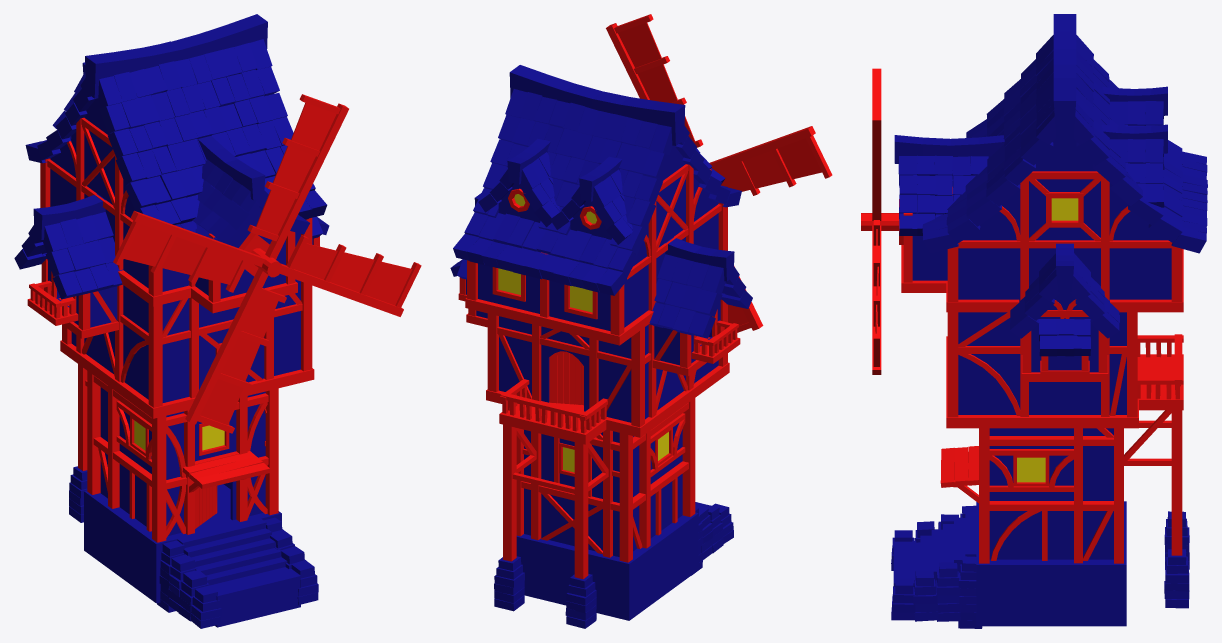
The picture shows the model from 3 angles, left to right: view 1: azimuth 30°, elevation 25°; view 2: azimuth 150°, elevation 25°; view 3: azimuth 270°, elevation 25°; orthographic projection. The views are drawn at different scales.
Visible parts, largest first — view 1: wuding10, yilou, 立方体.090, 对象048, 立方体.021, diban, 对象051, men.001, 平面.008; view 2: wuding10, yilou, 对象048, 立方体.021, 立方体.090, diban, 对象051, 平面.008, men; view 3: wuding10, 对象048, yilou, 立方体.021, diban, 立方体.090, 对象051, 平面.008.
Part boxes in pixels (box(x1,y1,x2,y2)): wuding10: box(14, 14, 329, 299); yilou: box(40, 117, 319, 542); 立方体.090: box(113, 94, 421, 433); 对象048: box(48, 94, 313, 535); 立方体.021: box(69, 466, 318, 628); diban: box(27, 270, 314, 418); 对象051: box(29, 280, 75, 318); men.001: box(195, 485, 217, 528); 平面.008: box(134, 420, 224, 450); wuding10: box(450, 65, 752, 338); yilou: box(459, 164, 727, 579); 对象048: box(466, 145, 720, 556); 立方体.021: box(494, 502, 733, 628); 立方体.090: box(606, 14, 832, 332); diban: box(458, 293, 740, 444); 对象051: box(499, 320, 738, 433); 平面.008: box(498, 194, 668, 472); men: box(549, 351, 583, 405); wuding10: box(894, 14, 1207, 356); 对象048: box(912, 138, 1171, 559); yilou: box(861, 171, 1182, 563); 立方体.021: box(891, 501, 1189, 628); diban: box(901, 245, 1183, 428); 立方体.090: box(872, 68, 881, 374); 对象051: box(1137, 334, 1183, 399); 平面.008: box(1017, 198, 1078, 482).
Bounding box in the file's own units: 816 × 1337 × 774.
